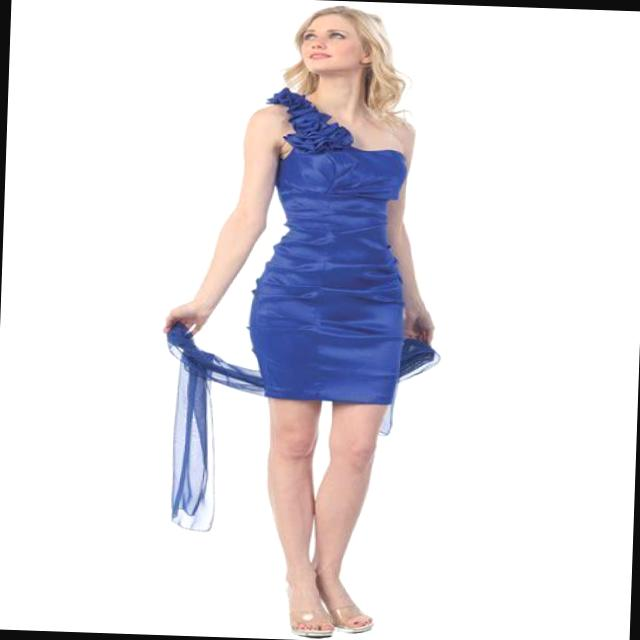dress: (244, 86, 409, 403)
